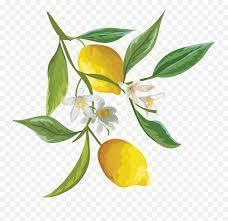lemon: (98, 138, 150, 187), (78, 44, 123, 95)
